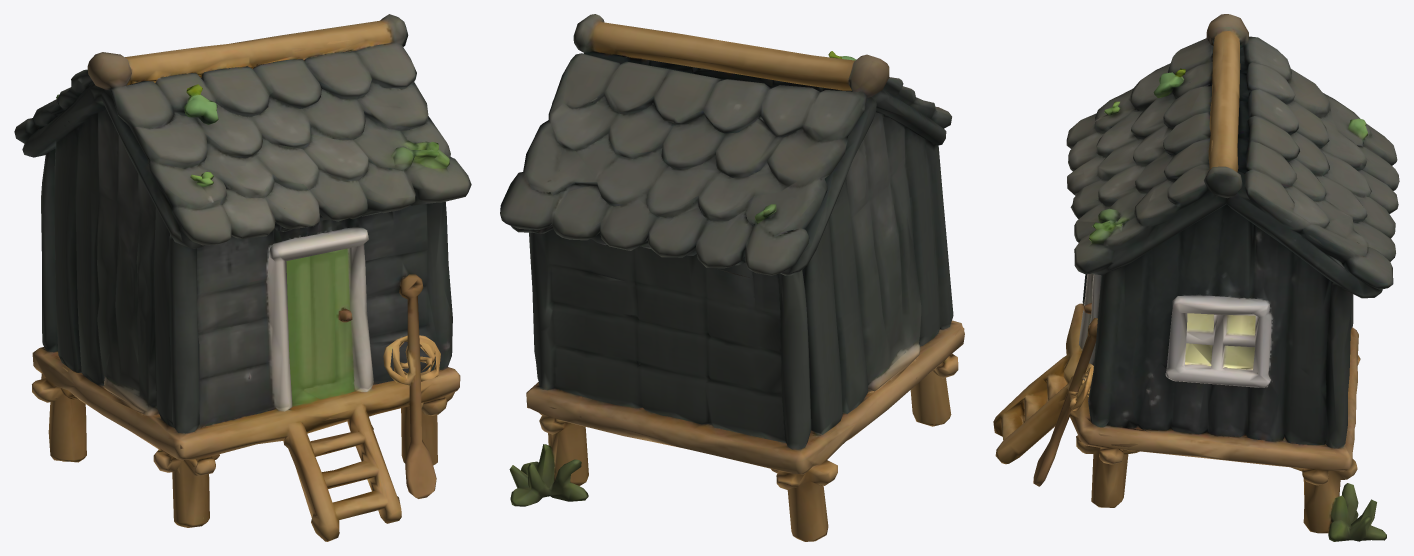
Rendered from low-house-b.glb.
3 renders of one model, left to right at view 1: azimuth 30°, elevation 25°; view 2: azimuth 150°, elevation 25°; view 3: azimuth 270°, elevation 25°, orthographic. The views are drawn at different scales.
Size of the model in its own units: 2.41 by 3.3 by 3.
1 material, 1 textured.
